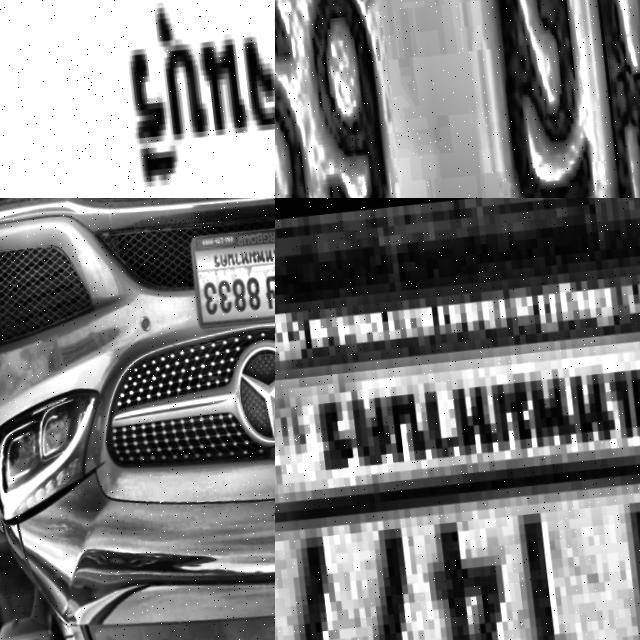license-plate: (275, 198, 640, 640), (275, 0, 640, 198), (0, 0, 275, 198), (184, 216, 275, 336)
